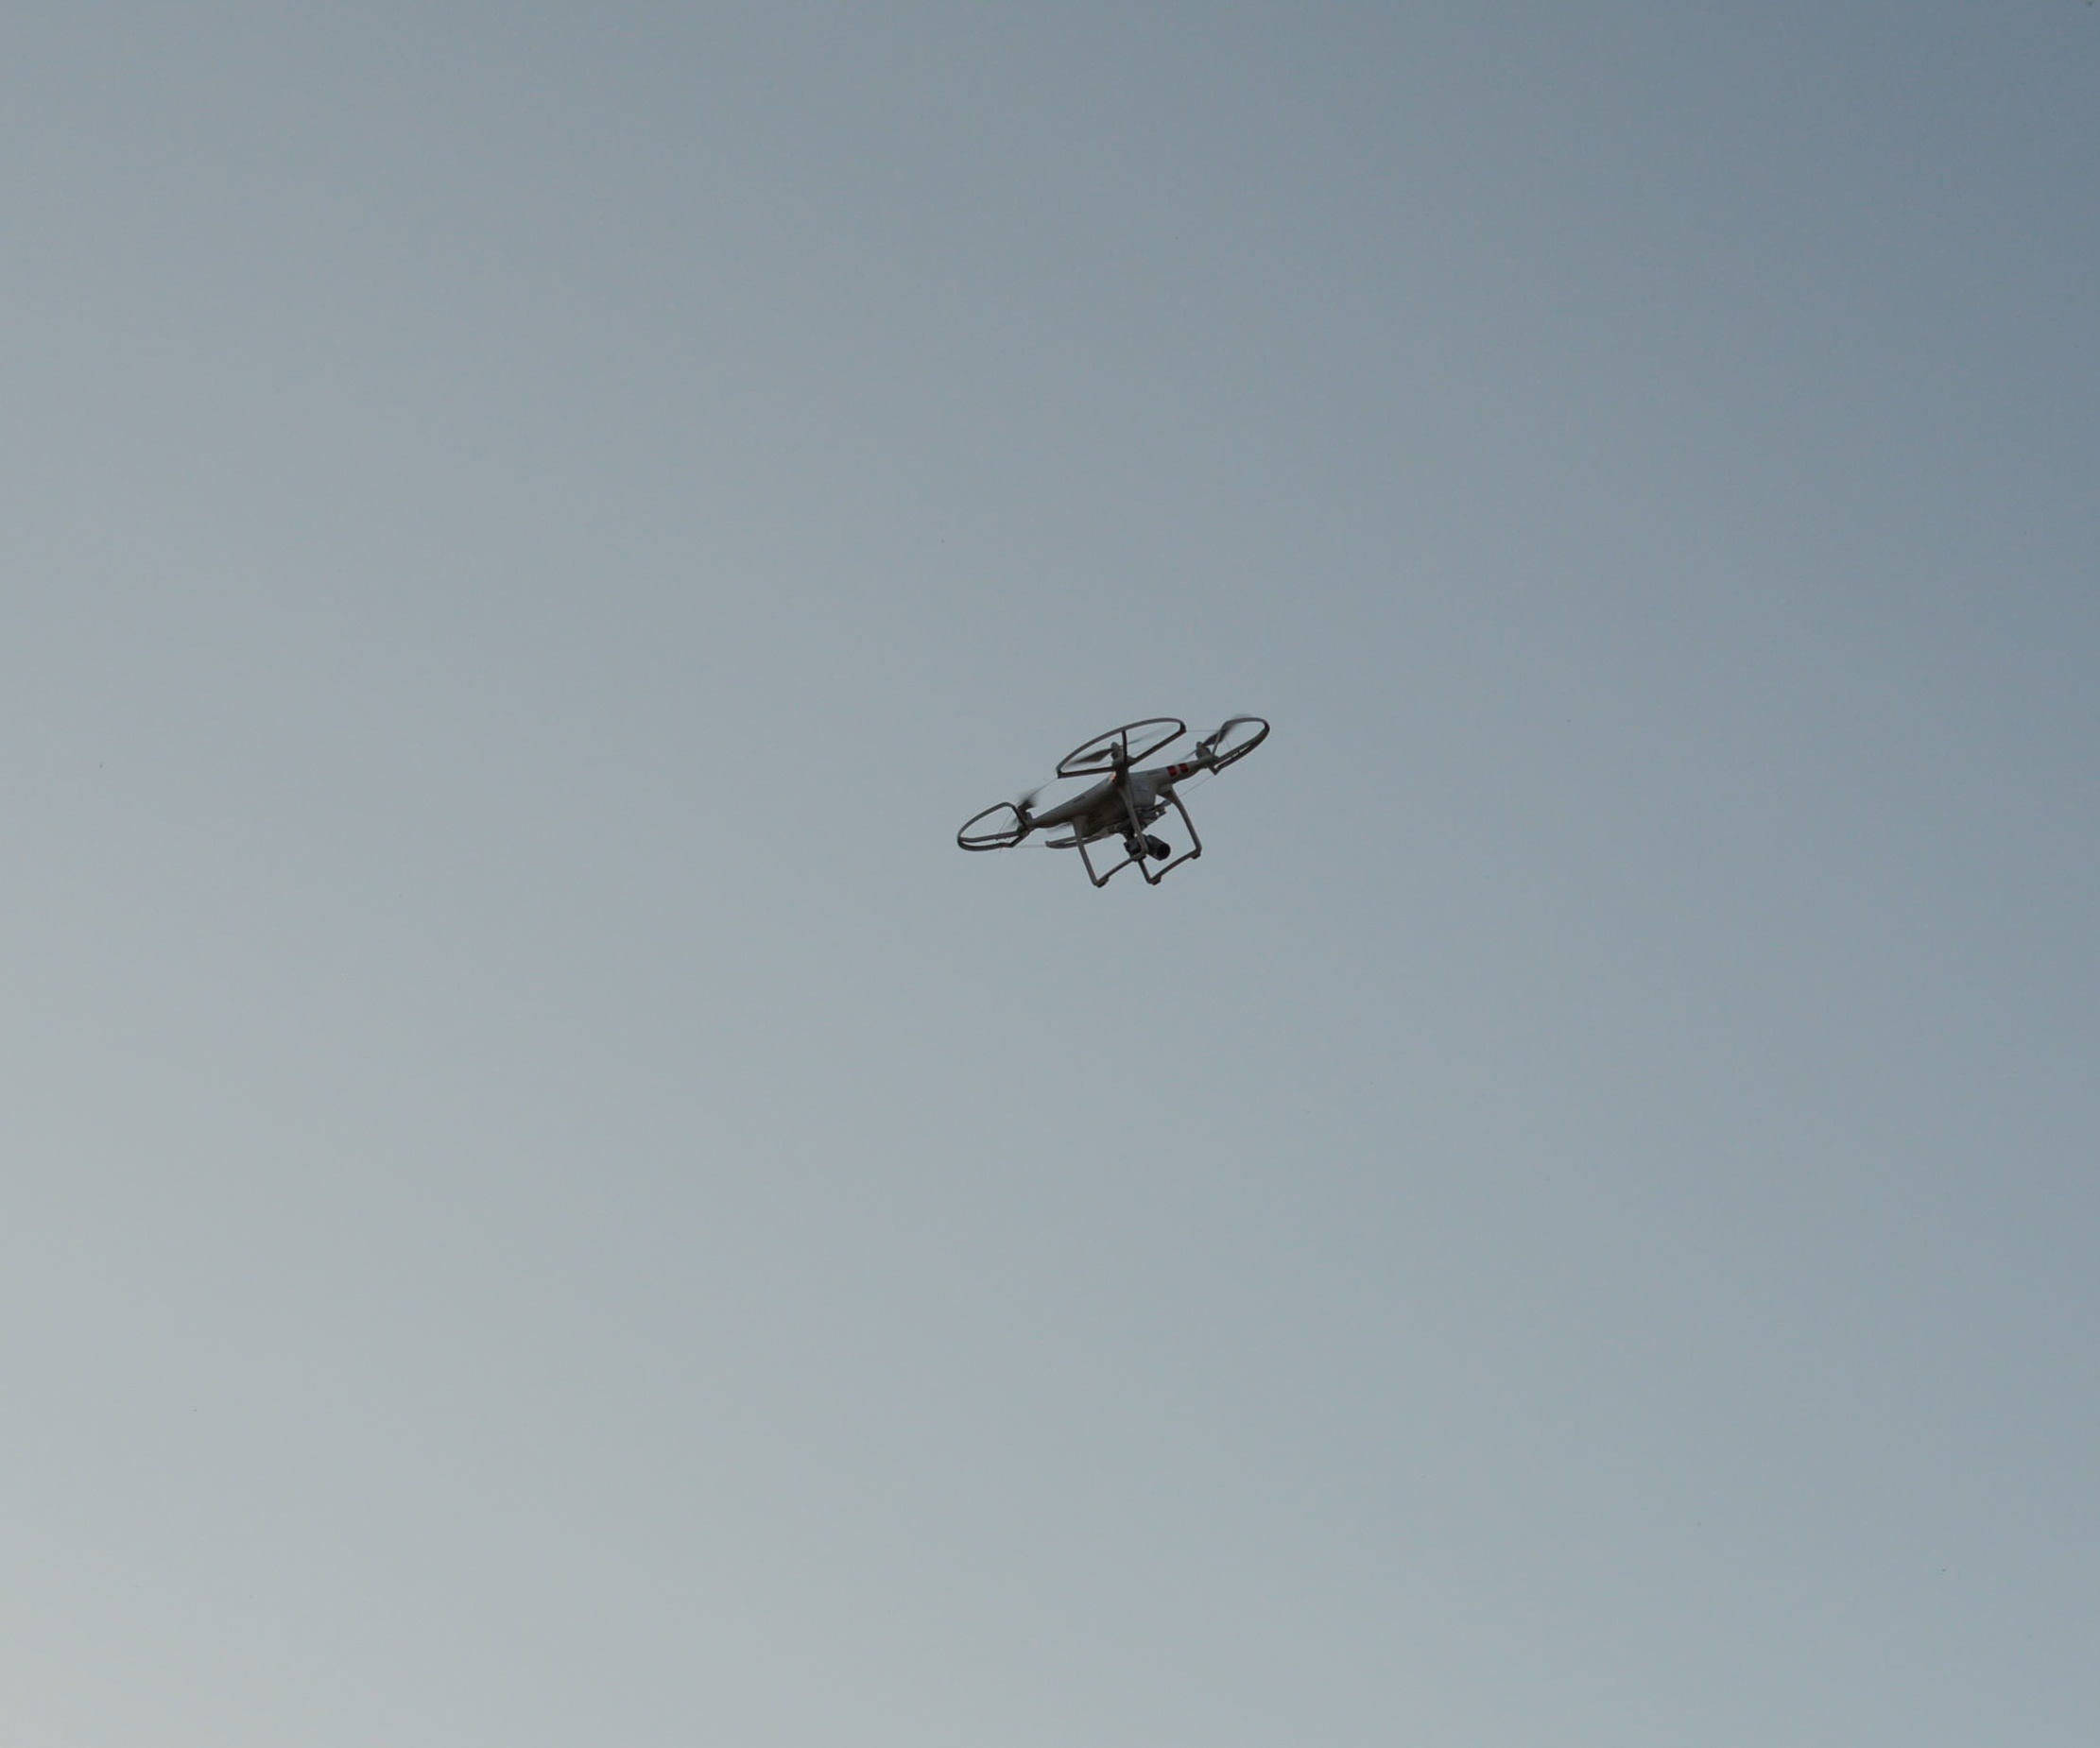DJI: (951, 719, 1284, 891)
